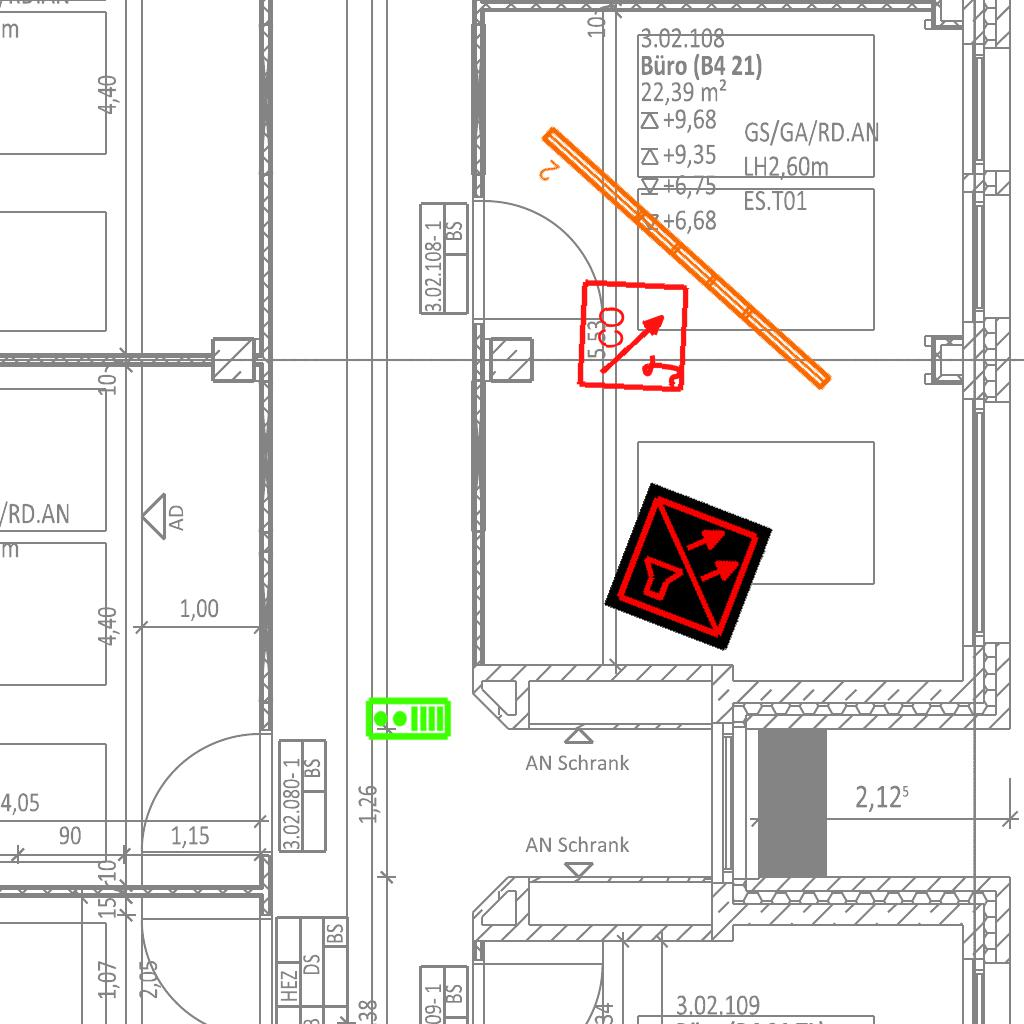Ambulanz_Pendelleuchte_LED: (515, 117, 842, 419)
Gegensprechanlage_mit_Video: (364, 696, 452, 743)
OKW_Multisensormelder_(Kombination_optischer_Rauch-Kahlenmonoxid_Waerme-Melder): (603, 481, 775, 653)
ROA_Rauchmelder_optisch_mit_Signalgeber_(Sockelsirene): (575, 276, 694, 395)
